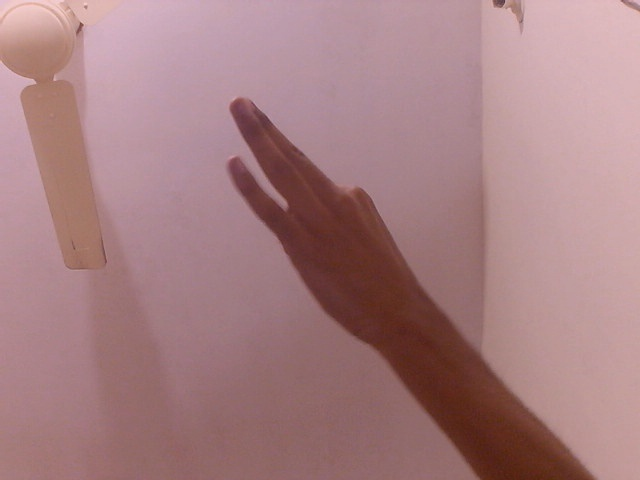hand: (213, 92, 430, 364)
